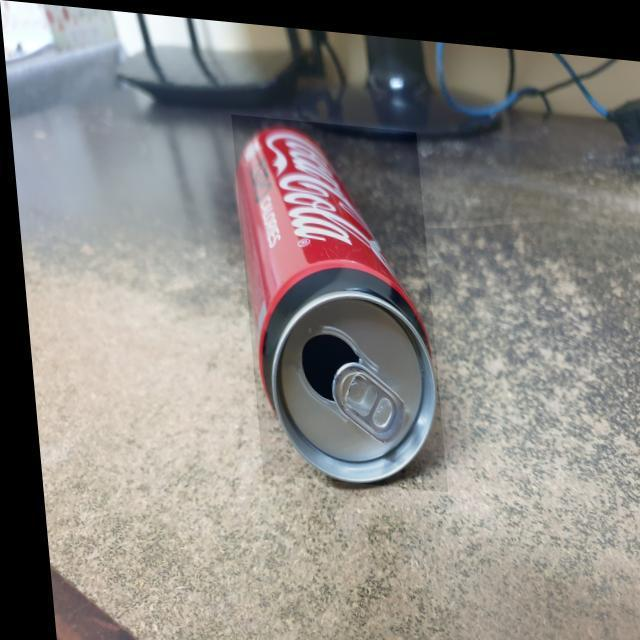trash: (228, 116, 442, 492)
